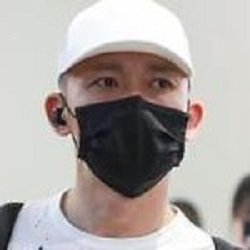mask: (68, 98, 194, 199)
